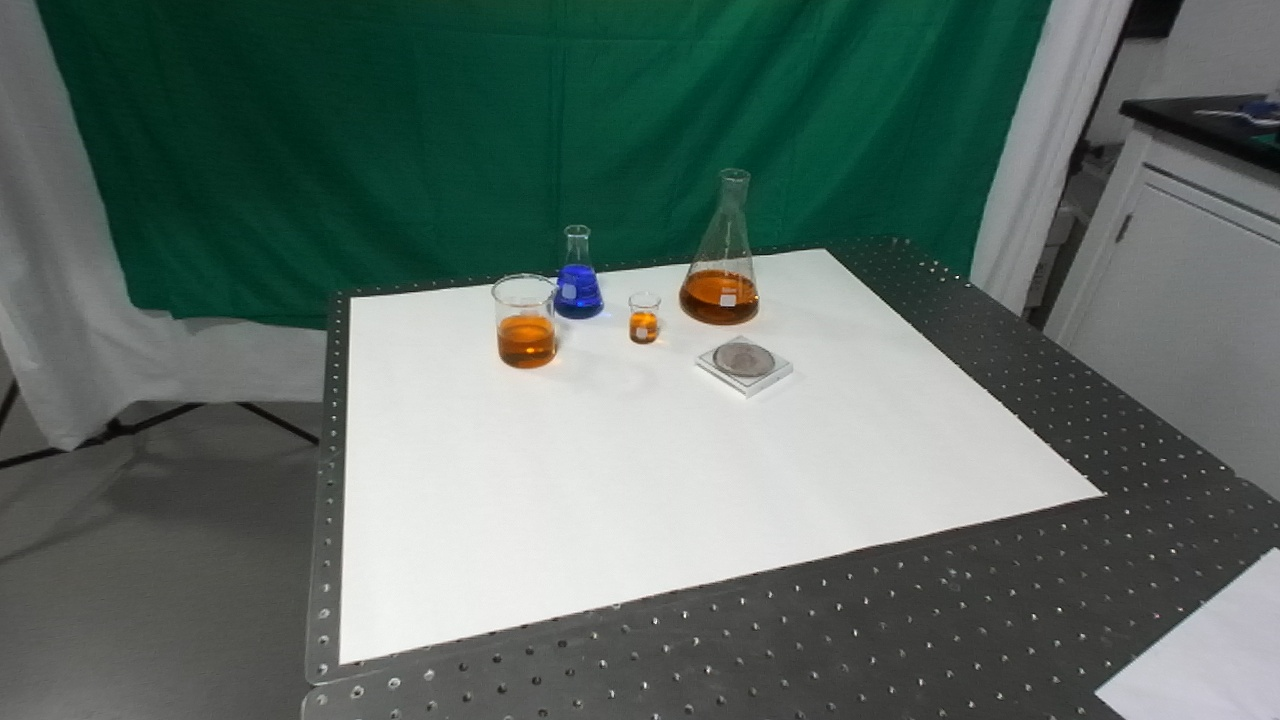glass: (676, 165, 762, 327), (486, 270, 563, 373), (549, 222, 607, 324), (625, 288, 665, 350)
plate: (691, 333, 797, 402)
